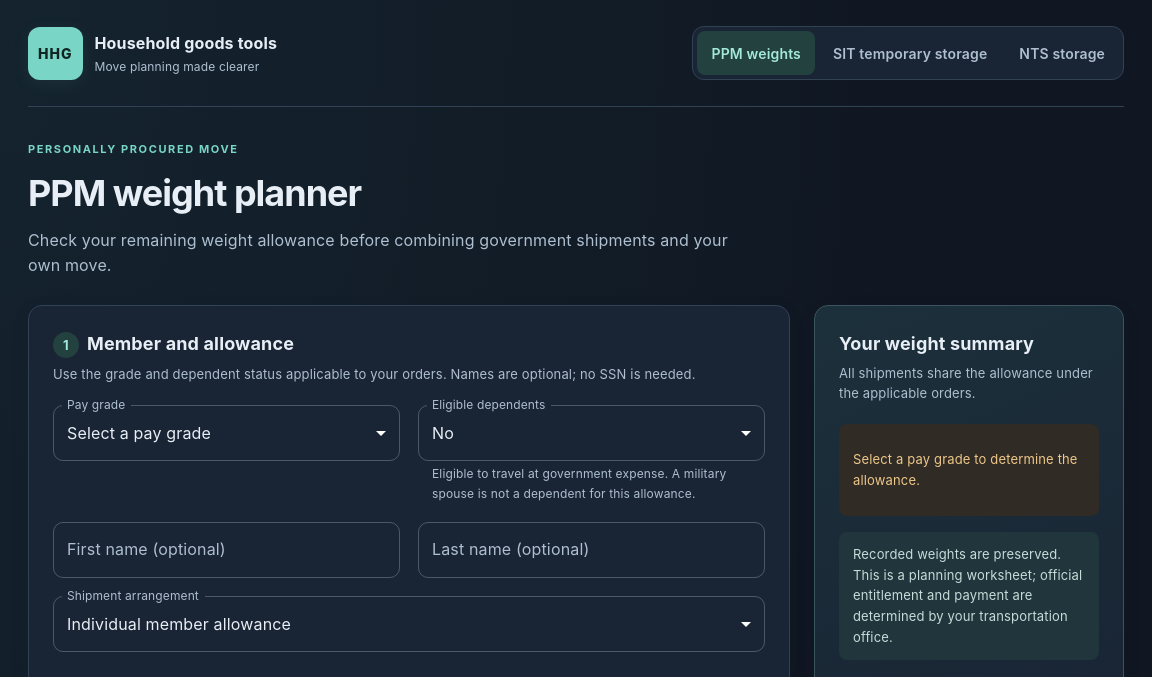
Test case: SIT is reachable and inputs persist when switching calculators
The width and height of the screenshot is (1152, 677).
Click the link "SIT temporary storage".
click(910, 53)  # box [833,44,987,62]
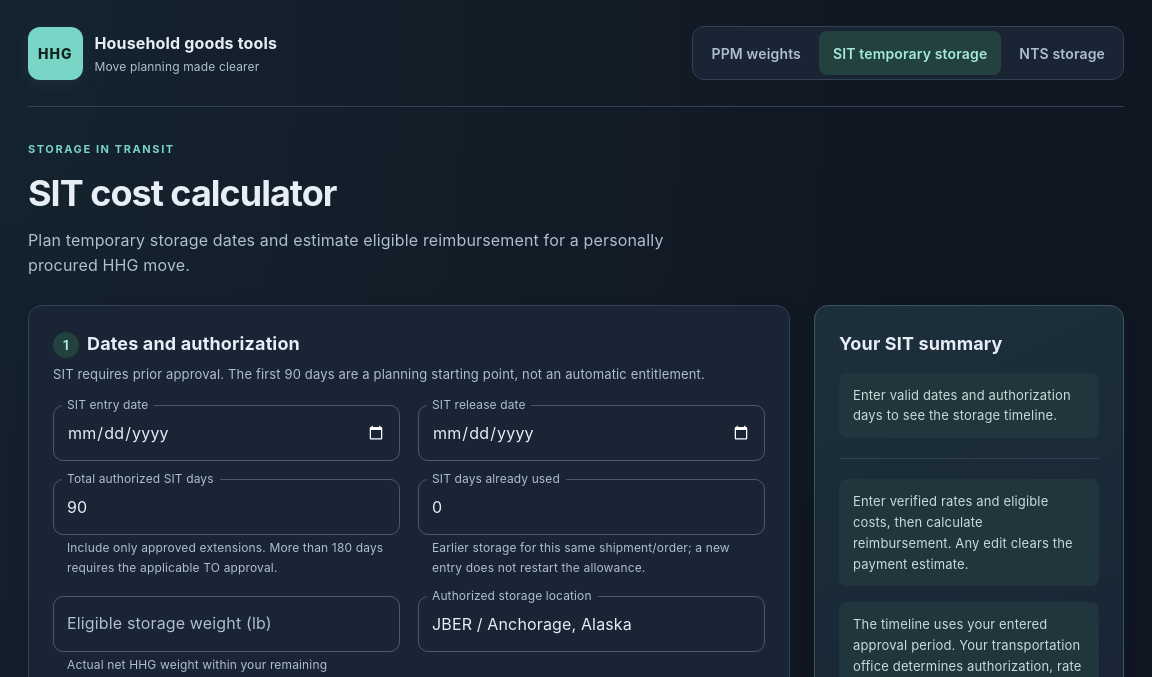
Expected: the heading "SIT cost calculator" is shown, [28,170,336,214]
Type "2026-01-01" into the date field labelled "SIT entry date".
click(226, 433); type("2026-01-01")  # box [53,405,400,461]
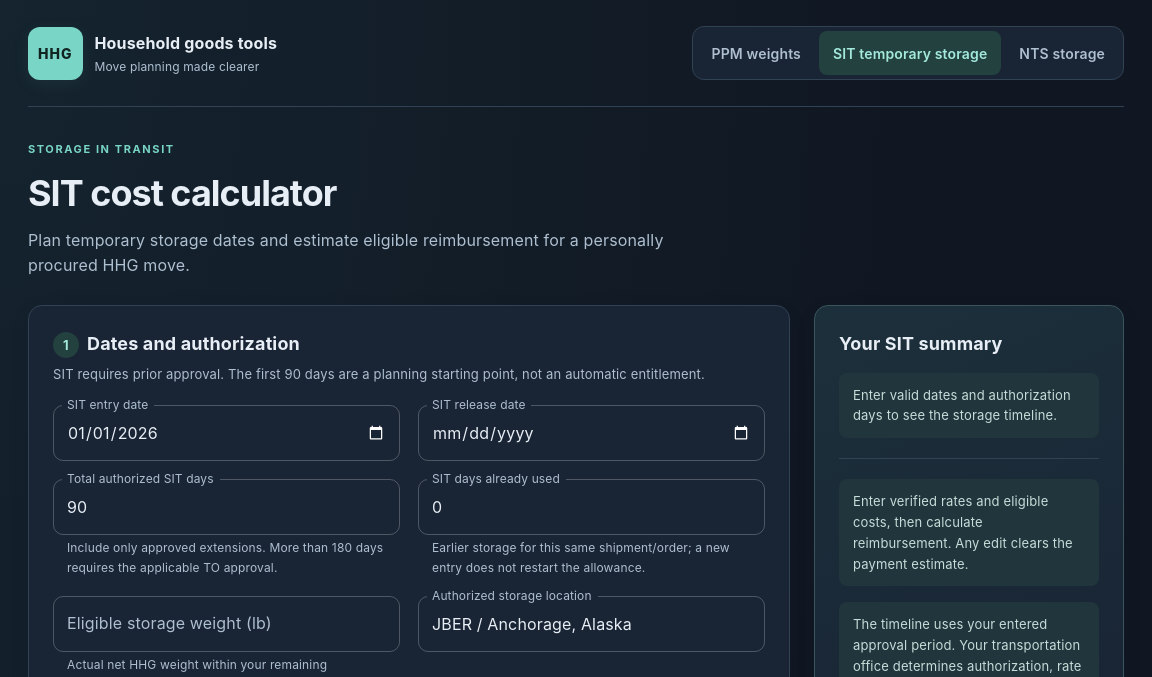
Click the link "PPM weights".
click(756, 53)  # box [712,44,801,62]
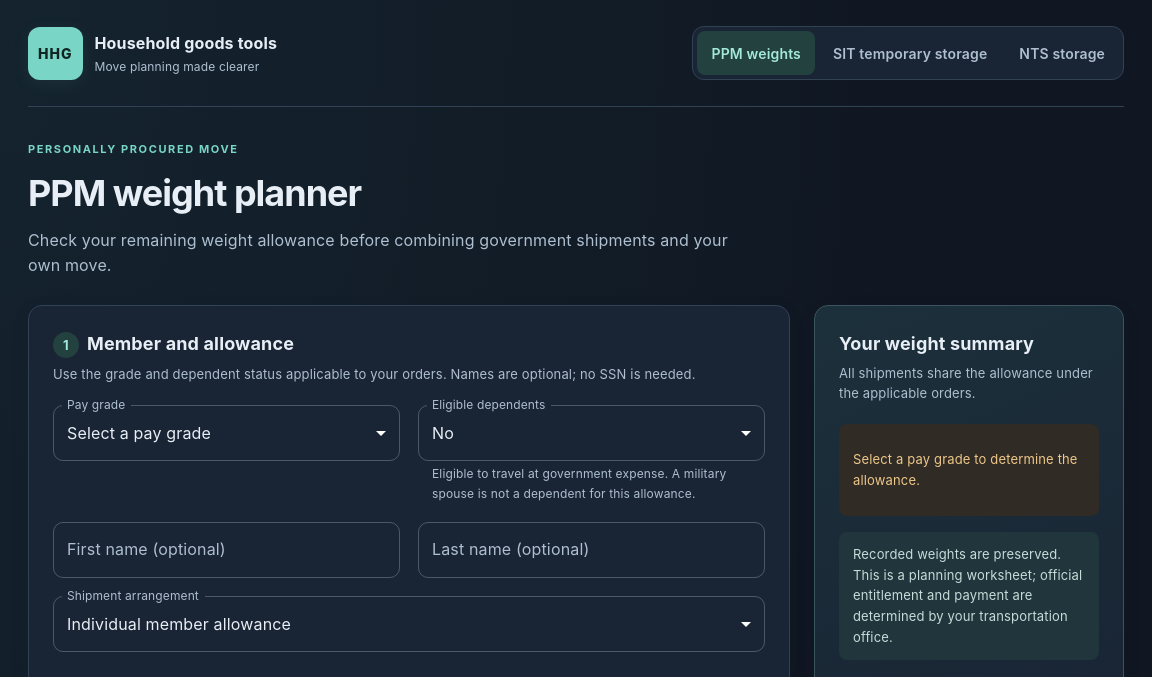
Expected: the heading "PPM weight planner" is shown, [28,170,361,214]
Click the link "SIT temporary storage".
click(910, 53)  # box [833,44,987,62]
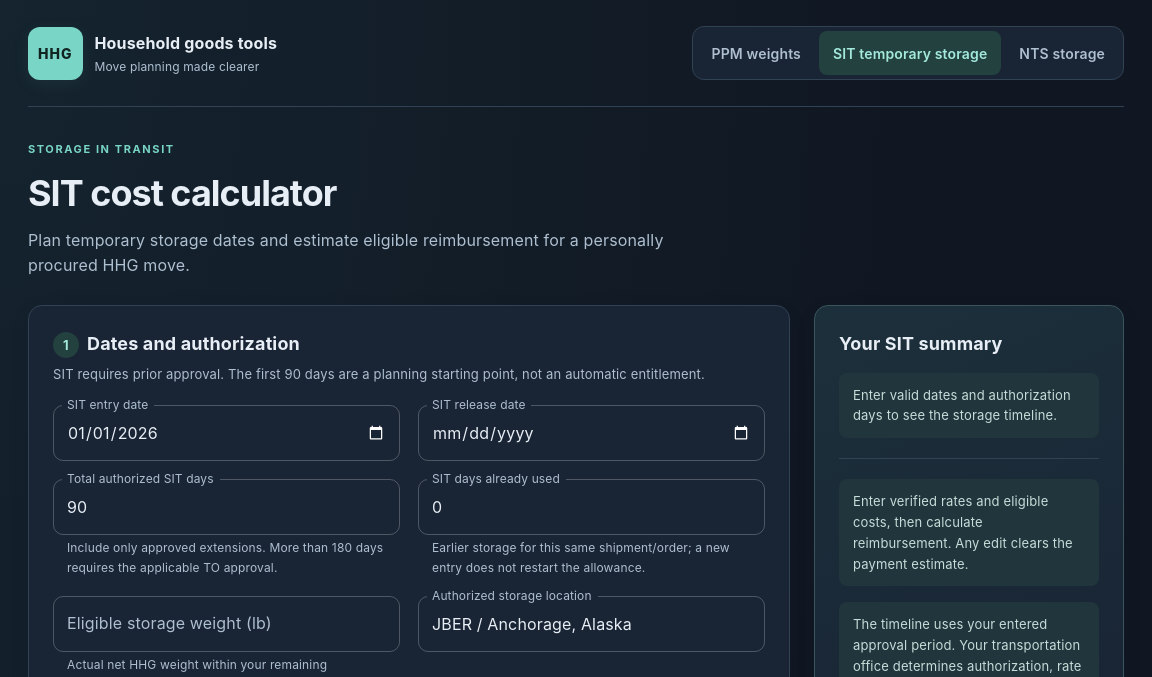
Expected: the date field labelled "SIT entry date" holds "2026-01-01", [53,405,400,461]
